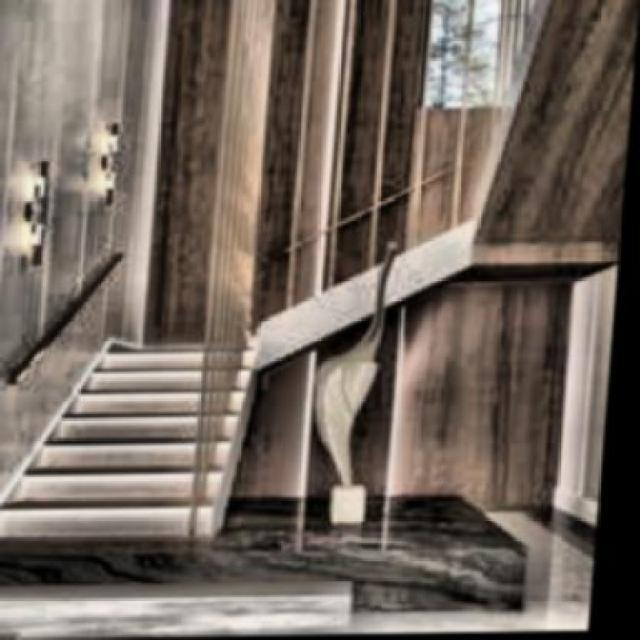stair: (0, 337, 291, 556)
